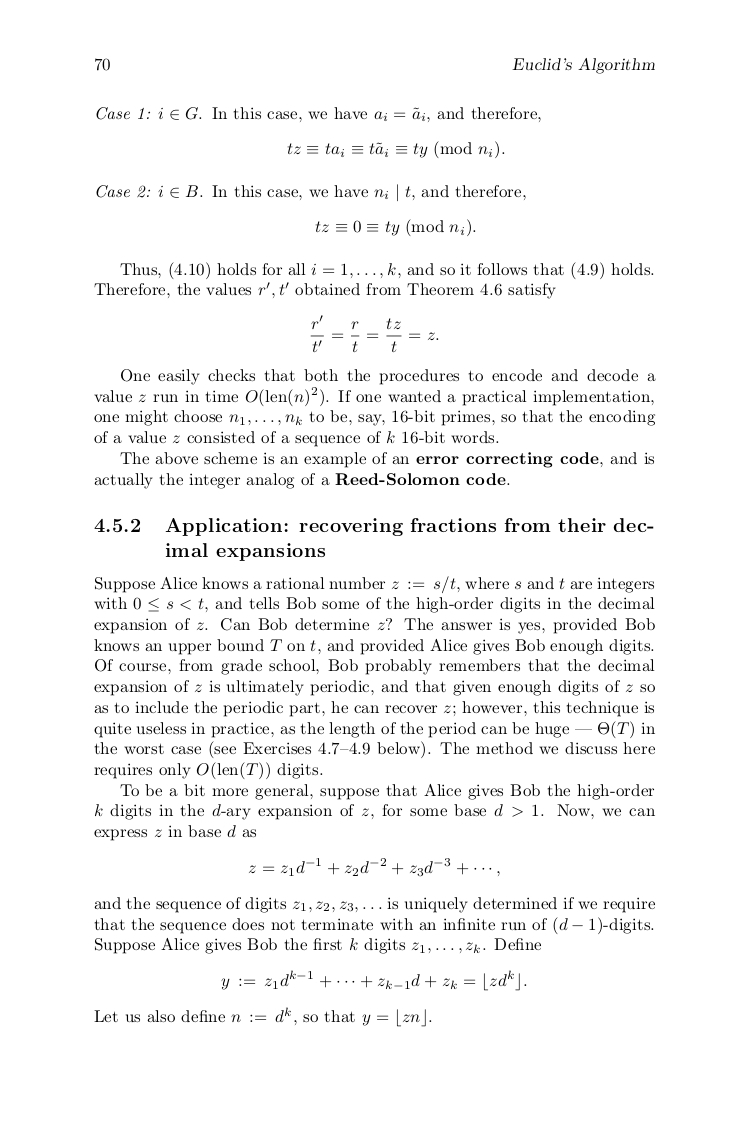formula: (221, 969, 526, 991), (248, 857, 499, 877), (310, 315, 438, 352), (287, 140, 504, 159), (315, 218, 475, 237)
